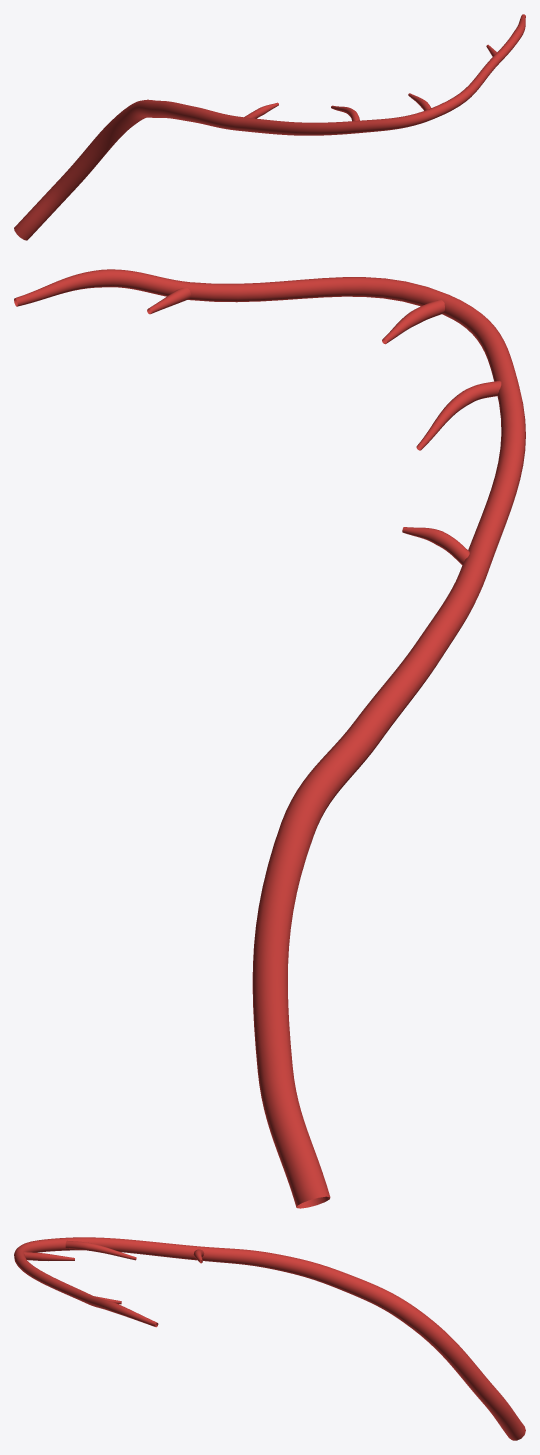
3 renders of one model, top to bottom at view 1: azimuth 30°, elevation 25°; view 2: azimuth 150°, elevation 25°; view 3: azimuth 270°, elevation 25°, orthographic. The views are drawn at different scales.
Visible parts, largest first — view 1: 左侧肾上腺下动脉; view 2: 左侧肾上腺下动脉; view 3: 左侧肾上腺下动脉.
Boxes of the visible parts, box(x1,y1,x2,y2) form: 左侧肾上腺下动脉: box(14, 14, 525, 240); 左侧肾上腺下动脉: box(14, 269, 525, 1208); 左侧肾上腺下动脉: box(14, 1237, 525, 1440).
Size of the model in its own units: 0.0732 by 0.0575 by 0.0926.
